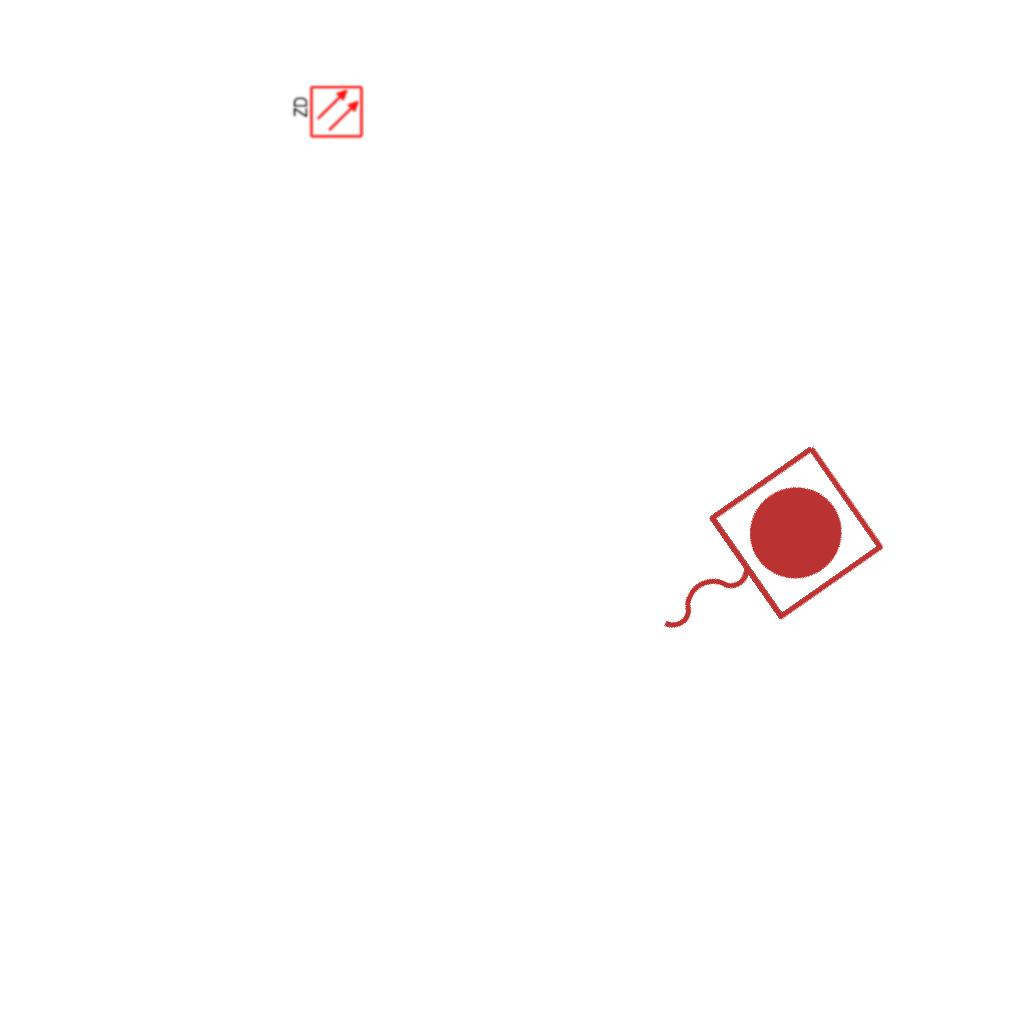ZD_Melder_in_Zwischendecke_mit_Revisionsoeffnung_mind_40_x_40_cm: (290, 84, 364, 141)
Zugtaster: (612, 431, 896, 689)
